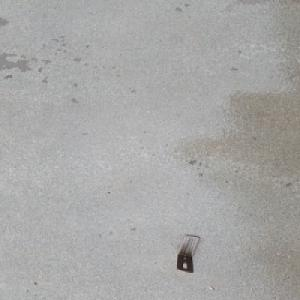MetalPart: (175, 234, 201, 273)
